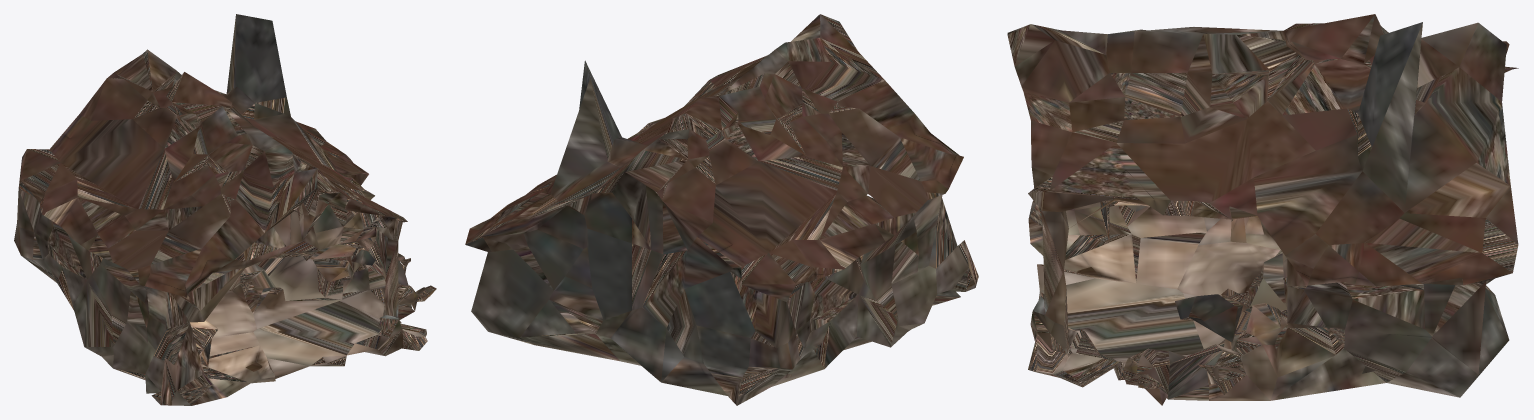
File: bq_forge.lod2.glb
3 renders of one model, left to right at view 1: azimuth 30°, elevation 25°; view 2: azimuth 150°, elevation 25°; view 3: azimuth 270°, elevation 25°, orthographic. The views are drawn at different scales.
Parts seen in each view (by area): view 1: mesh_node; view 2: mesh_node; view 3: mesh_node.
Boxes of the visible parts, x1=… form: mesh_node: x1=14, y1=14, x2=436, y2=405; mesh_node: x1=465, y1=14, x2=978, y2=405; mesh_node: x1=1007, y1=14, x2=1518, y2=405.
Bounding box in the file's own units: 1.58 × 1.16 × 1.67.
1 material, 1 textured.
